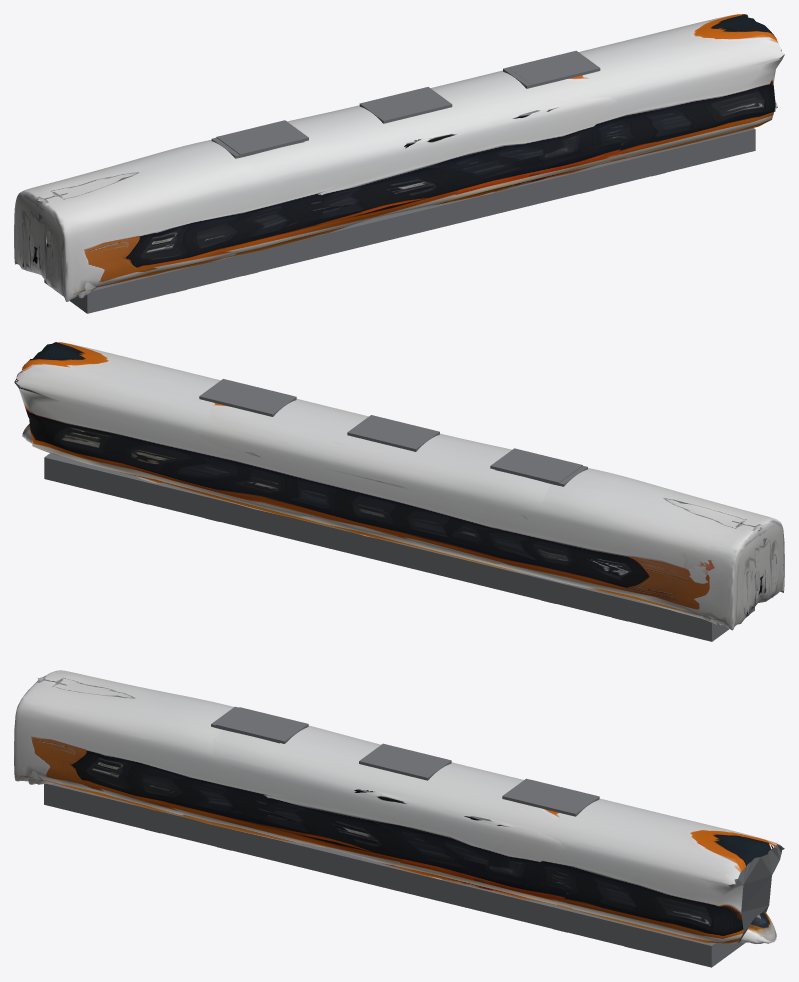
3 renders of one model, top to bottom at view 1: azimuth 30°, elevation 25°; view 2: azimuth 150°, elevation 25°; view 3: azimuth 330°, elevation 25°, orthographic.
Visible parts, largest first — view 1: Head, Middle; view 2: Middle, Head; view 3: Middle, Head.
Boxes of the visible parts, x1=… form: Head: x1=14, y1=50, x2=777, y2=313; Middle: x1=29, y1=14, x2=784, y2=302; Middle: x1=14, y1=342, x2=771, y2=638; Head: x1=22, y1=379, x2=784, y2=641; Middle: x1=28, y1=681, x2=784, y2=967; Head: x1=14, y1=670, x2=776, y2=952.
Size of the model in its own units: 25.8 by 4.04 by 3.33.
Materials: 3 (1 with a texture image).
